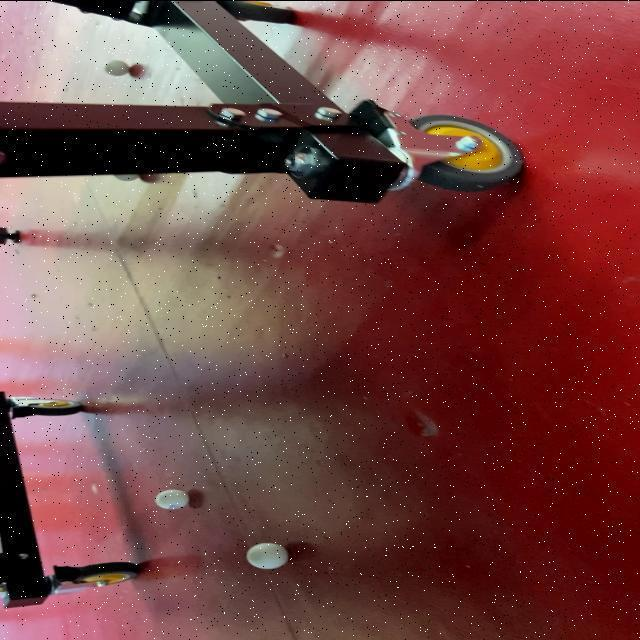ping-pong-ball: (244, 542, 293, 568), (152, 486, 192, 510), (100, 58, 134, 76)
